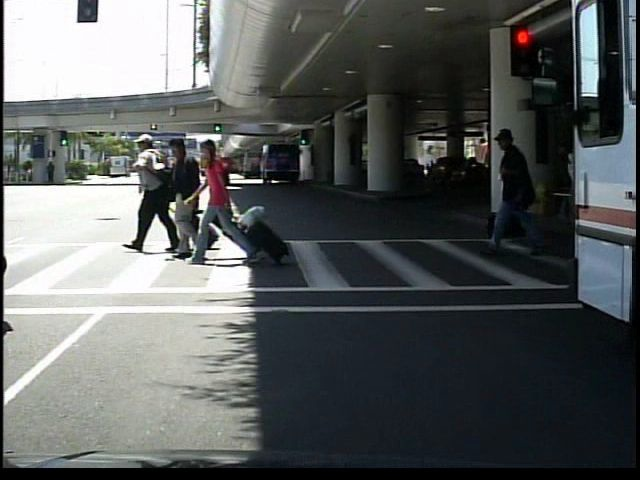person: (482, 119, 554, 258)
